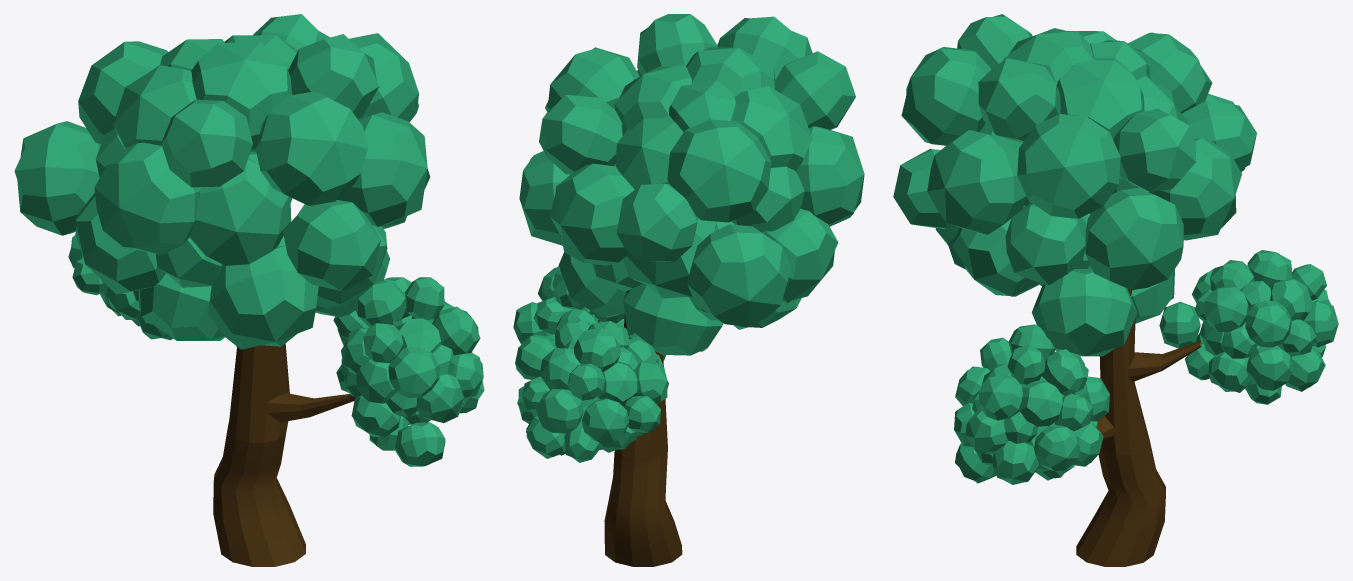
The model's file is ENV_Tree_2.fbx.
3 renders of one model, left to right at view 1: azimuth 30°, elevation 25°; view 2: azimuth 150°, elevation 25°; view 3: azimuth 270°, elevation 25°, orthographic. The views are drawn at different scales.
Visible parts, largest first — view 1: ENV_Tree_2; view 2: ENV_Tree_2; view 3: ENV_Tree_2.
Part boxes in pixels (<box>): ENV_Tree_2: <box>14,14,484,566</box>; ENV_Tree_2: <box>513,14,864,566</box>; ENV_Tree_2: <box>893,14,1338,566</box>.
Size of the model in its own units: 1.77 by 2.47 by 2.01.
